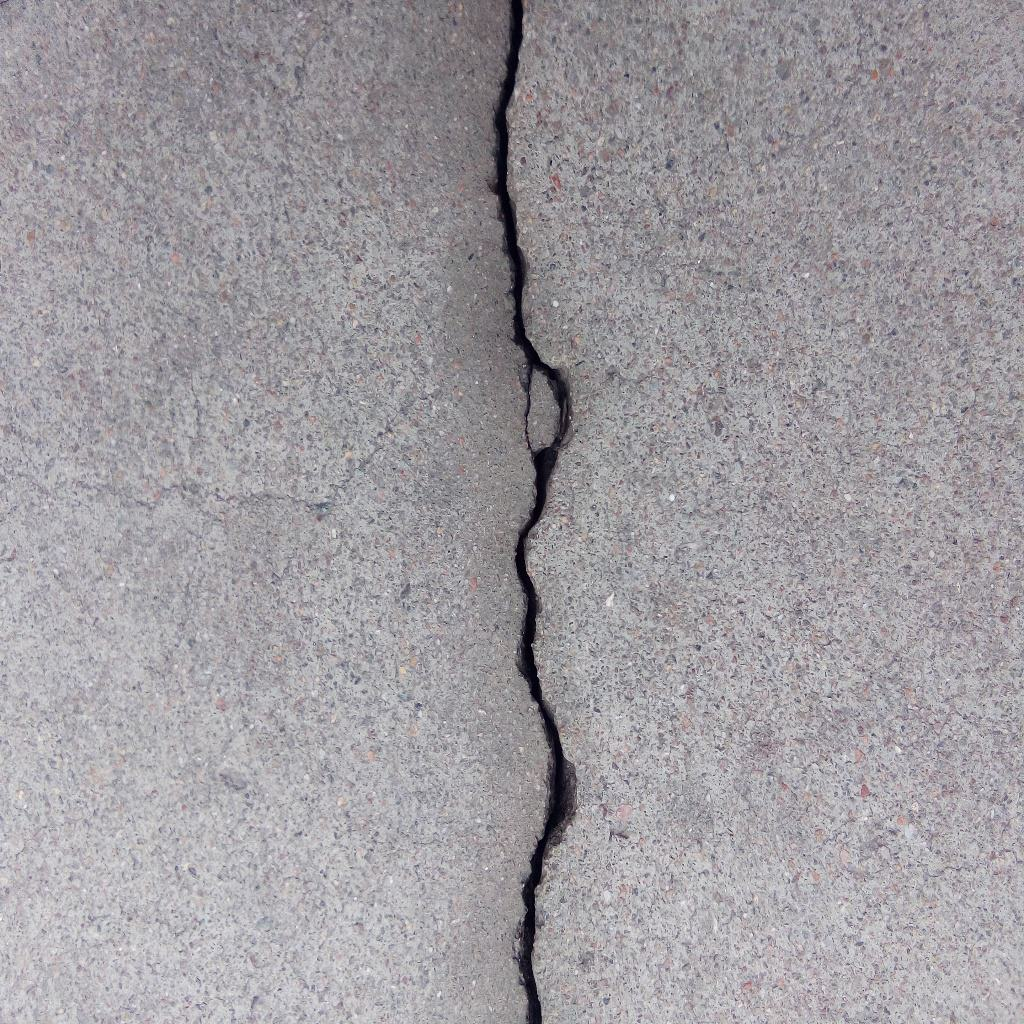Crack: (485, 1, 577, 1024)
